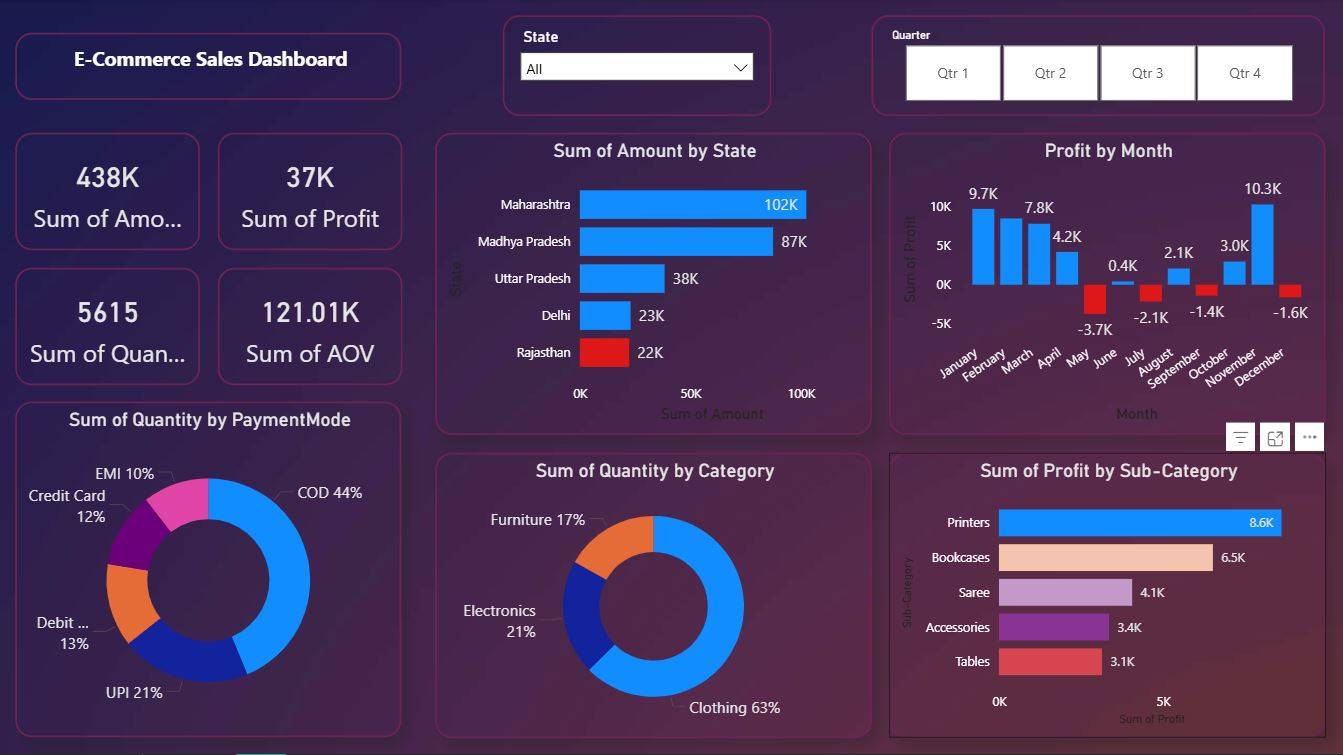

The dashboard page shown, as its layout file describes it:
{"tool":"powerbi","page":{"name":"Page 1","canvas":[1280,720],"ordinal":0},"visuals":[{"type":"textbox","box":[16,32,368,64],"z":0},{"type":"columnChart","title":" Profit by Month","fields":{"Category":["Orders.Order Date.Variation.Date Hierarchy.Year","Orders.Order Date.Variation.Date Hierarchy.Quarter","Orders.Order Date.Variation.Date Hierarchy.Month","Orders.Order Date.Variation.Date Hierarchy.Day"],"Y":["Sum(Details.Profit)"]},"box":[848,128,416,288],"z":1000},{"type":"barChart","fields":{"Category":["Details.Sub-Category"],"Y":["Sum(Details.Profit)"]},"box":[848,432,416,272],"z":2000},{"type":"donutChart","fields":{"Category":["Details.Category"],"Y":["Sum(Details.Quantity)"]},"box":[416,432,416,272],"z":3000},{"type":"donutChart","fields":{"Y":["Sum(Details.Quantity)"],"Category":["Details.PaymentMode"]},"box":[16,384,368,320],"z":4000},{"type":"card","fields":{"Values":["Sum(Details.Amount)"]},"box":[16,128,176,112],"z":5000},{"type":"card","fields":{"Values":["Sum(Details.Profit)"]},"box":[208,128,176,112],"z":6000},{"type":"card","fields":{"Values":["Sum(Details.Quantity)"]},"box":[16,256,176,112],"z":7000},{"type":"card","fields":{"Values":["Sum(Details.AOV)"]},"box":[208,256,176,112],"z":8000},{"type":"barChart","fields":{"Category":["Orders.State"],"Y":["Sum(Details.Amount)"]},"box":[416,128,416,288],"z":9000},{"type":"slicer","fields":{"Values":["Orders.Order Date.Variation.Date Hierarchy.Quarter"]},"box":[832,16,432,96],"z":10000},{"type":"slicer","fields":{"Values":["Orders.State"]},"box":[480,16,256,96],"z":11000}]}

Visuals, with their boxes in screenshot pixels (x1, y1, x2, y2), scaled from the page's 1280x720 canvas onto the 1343x755 screenshot:
textbox: <bbox>17, 34, 403, 101</bbox>
" Profit by Month" columnChart: <bbox>890, 134, 1326, 436</bbox>
barChart - Details.Sub-Category x Sum(Details.Profit): <bbox>890, 453, 1326, 738</bbox>
donutChart - Details.Category x Sum(Details.Quantity): <bbox>436, 453, 873, 738</bbox>
donutChart - Sum(Details.Quantity) x Details.PaymentMode: <bbox>17, 403, 403, 738</bbox>
card - Sum(Details.Amount): <bbox>17, 134, 201, 252</bbox>
card - Sum(Details.Profit): <bbox>218, 134, 403, 252</bbox>
card - Sum(Details.Quantity): <bbox>17, 268, 201, 386</bbox>
card - Sum(Details.AOV): <bbox>218, 268, 403, 386</bbox>
barChart - Orders.State x Sum(Details.Amount): <bbox>436, 134, 873, 436</bbox>
slicer - Orders.Order Date.Variation.Date Hierarchy.Quarter: <bbox>873, 17, 1326, 117</bbox>
slicer - Orders.State: <bbox>504, 17, 772, 117</bbox>
